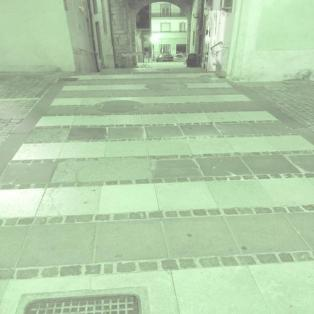Paso de Cebra: (0, 132, 314, 230), (43, 82, 258, 108)
